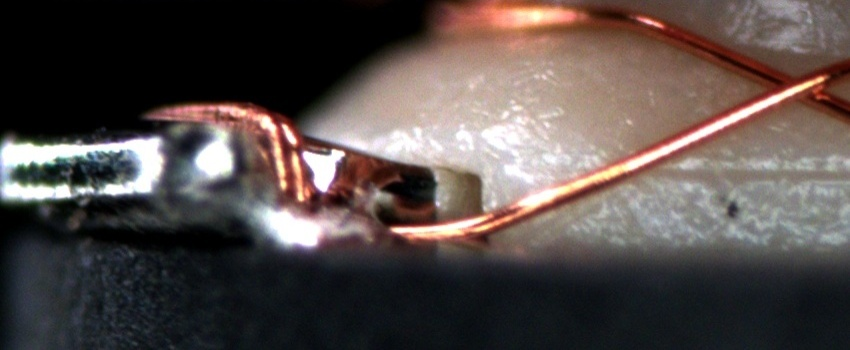CL: (740, 58, 841, 114)
DL: (558, 140, 850, 202)
TE: (146, 93, 316, 205)
